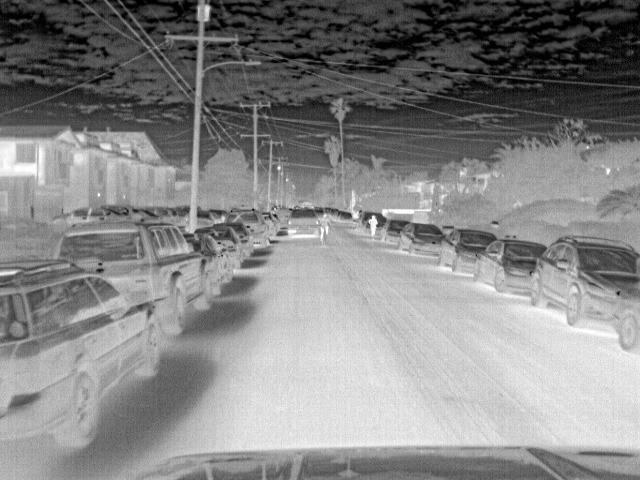car: (2, 259, 162, 449), (52, 225, 212, 334), (530, 238, 639, 328), (482, 240, 546, 297), (191, 233, 234, 297), (443, 229, 496, 278), (196, 226, 247, 270), (225, 209, 271, 249), (612, 283, 639, 351), (401, 224, 444, 258), (52, 206, 131, 224), (289, 207, 324, 239), (382, 220, 414, 248), (102, 203, 146, 222), (357, 211, 384, 230), (262, 212, 280, 238), (136, 209, 164, 222), (338, 210, 354, 223)
person: (367, 214, 380, 239)
